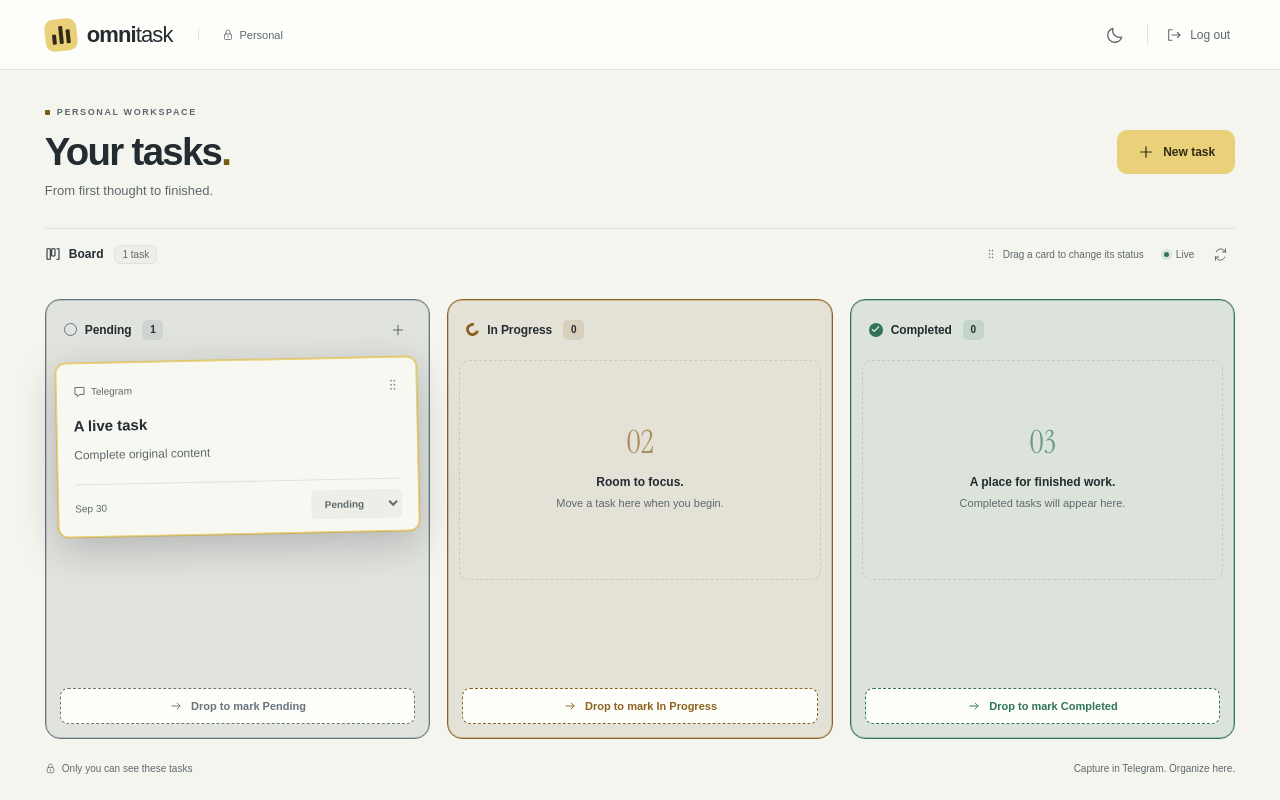
Test: live owner snapshots › closes the socket when logout unmounts the private board
Expected: the button "A live task" is shown, [73,408,401,438]
Click the button "Log out" at (1198, 34), box [1161,14,1235,54]
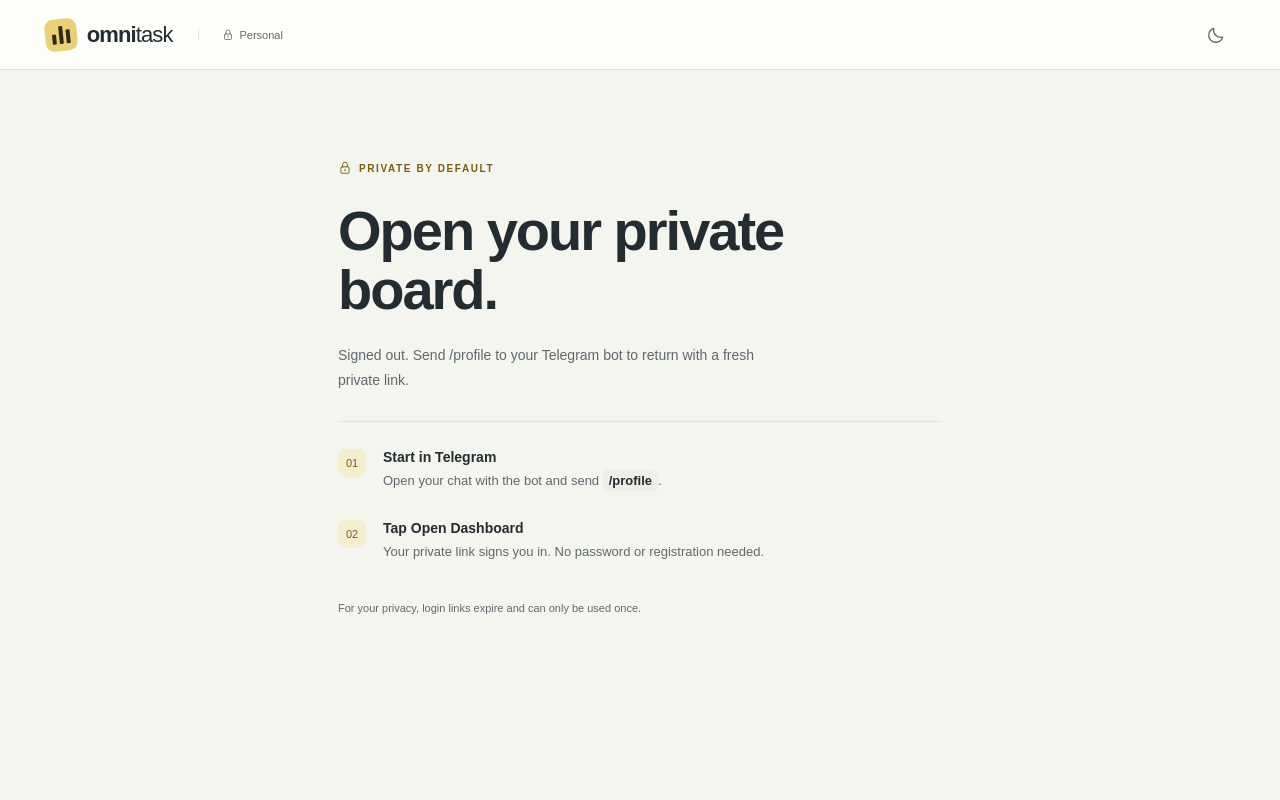
Result: the heading "Open your private board." is shown at [338,201,838,320]
